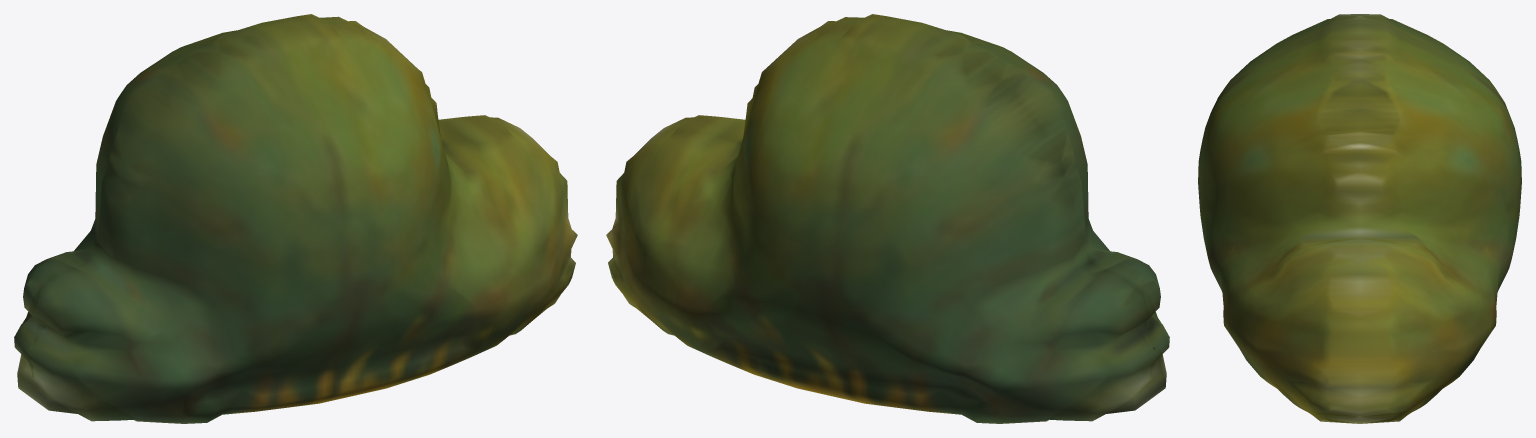
The model's file is 01_rocks_and_bushes_r03_c08.glb.
3 renders of one model, left to right at view 1: azimuth 30°, elevation 25°; view 2: azimuth 150°, elevation 25°; view 3: azimuth 270°, elevation 25°, orthographic. The views are drawn at different scales.
Visible parts, largest first — view 1: 01_rocks_and_bushes_r03_c08; view 2: 01_rocks_and_bushes_r03_c08; view 3: 01_rocks_and_bushes_r03_c08.
Part boxes in pixels (x1,y1,x2,y2): 01_rocks_and_bushes_r03_c08: (14, 14, 577, 423); 01_rocks_and_bushes_r03_c08: (606, 14, 1169, 423); 01_rocks_and_bushes_r03_c08: (1198, 14, 1521, 423).
Bounding box in the file's own units: 1.17 × 0.6998 × 0.7021.
Materials: 1 (1 with a texture image).
